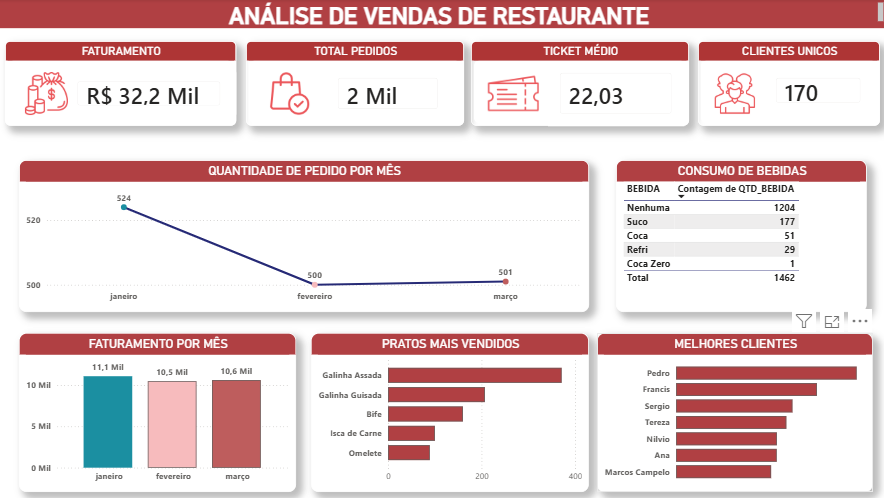

What the dashboard file says about the page in this screenshot:
{"tool":"powerbi","page":{"name":"Página 1","canvas":[1280,720],"ordinal":0},"visuals":[{"type":"textbox","box":[0,0,1280.2,41.8],"z":0},{"type":"tableEx","title":"CONSUMO DE BEBIDAS","fields":{"Values":["Tabela1.BEBIDA","CountNonNull(Tabela1.QTD_BEBIDA)"]},"box":[889.9,231.8,342.7,218.9],"z":1000},{"type":"barChart","title":"PRATOS MAIS VENDIDOS","fields":{"Category":["Tabela1.PRATO"],"Y":["Sum(Tabela1.QUANTIDADE)"]},"box":[450.7,481,400.3,229],"z":2000},{"type":"columnChart","title":"FATURAMENTO POR MÊS","fields":{"Category":["Tabela1.DATA.Variation.Hierarquia de datas.Mês"],"Y":["Sum(Tabela1.VALOR)"]},"box":[30.2,481,398.9,229],"z":3000},{"type":"barChart","title":"MELHORES CLIENTES","fields":{"Category":["Tabela1.CLIENTE"],"Y":["Sum(Tabela1.VALOR)"]},"box":[862.6,481,397.4,229],"z":4000},{"type":"lineChart","title":"QUANTIDADE DE PEDIDO POR MÊS","fields":{"Category":["Tabela1.DATA.Variation.Hierarquia de datas.Mês"],"Y":["Sum(Tabela1.QUANTIDADE)"]},"box":[70.6,231.8,758.9,218.9],"z":5000},{"type":"shape","title":"FATURAMENTO","box":[10.1,60.5,332.6,122.4],"z":6000},{"type":"cardVisual","title":"FATURAMENTO","fields":{"Data":["Sum(Tabela1.VALOR)"]},"box":[92.2,96.5,250.6,79.2],"z":7000},{"type":"image","box":[28.8,105.1,82.1,61.9],"z":8000},{"type":"shape","title":"TOTAL PEDIDOS","box":[357.1,60.5,313.9,122.4],"z":9000},{"type":"cardVisual","title":"TOTAL PEDIDOS","fields":{"Data":["Sum(Tabela1.QUANTIDADE)"]},"box":[472.3,96.5,178.6,79.2],"z":10000},{"type":"image","box":[367.2,105.1,105.1,61.9],"z":11000},{"type":"shape","title":"TICKET MÉDIO","box":[681.1,60.5,313.9,122.4],"z":12000},{"type":"cardVisual","title":"TICKET MÉDIO","fields":{"Data":["Avg(Tabela1.VALOR)"]},"box":[792,89.3,195.8,93.6],"z":13000},{"type":"shape","title":"CLIENTES UNICOS","box":[1008,60.5,262.1,122.4],"z":15000},{"type":"cardVisual","title":"CLIENTES UNICOS","fields":{"Data":["Count(Tabela1.CLIENTE)"]},"box":[1103,96.5,157,70.6],"z":16000},{"type":"image","box":[1031,105.1,60.5,61.9],"z":16001},{"type":"image","box":[692.6,96.5,99.4,79.2],"z":16002}]}

Visuals, with their boxes in screenshot pixels (x1, y1, x2, y2), scaled from the page's 1280x720 canvas onto the 884x498 screenshot:
textbox: select_region(0, 0, 883, 29)
"CONSUMO DE BEBIDAS" tableEx: select_region(615, 160, 851, 312)
"PRATOS MAIS VENDIDOS" barChart: select_region(311, 333, 588, 491)
"FATURAMENTO POR MÊS" columnChart: select_region(21, 333, 296, 491)
"MELHORES CLIENTES" barChart: select_region(596, 333, 870, 491)
"QUANTIDADE DE PEDIDO POR MÊS" lineChart: select_region(49, 160, 573, 312)
"FATURAMENTO" shape: select_region(7, 42, 237, 127)
"FATURAMENTO" cardVisual: select_region(64, 67, 237, 122)
image: select_region(20, 73, 77, 116)
"TOTAL PEDIDOS" shape: select_region(247, 42, 463, 127)
"TOTAL PEDIDOS" cardVisual: select_region(326, 67, 450, 122)
image: select_region(254, 73, 326, 116)
"TICKET MÉDIO" shape: select_region(470, 42, 687, 127)
"TICKET MÉDIO" cardVisual: select_region(547, 62, 682, 127)
"CLIENTES UNICOS" shape: select_region(696, 42, 877, 127)
"CLIENTES UNICOS" cardVisual: select_region(762, 67, 870, 116)
image: select_region(712, 73, 754, 116)
image: select_region(478, 67, 547, 122)
